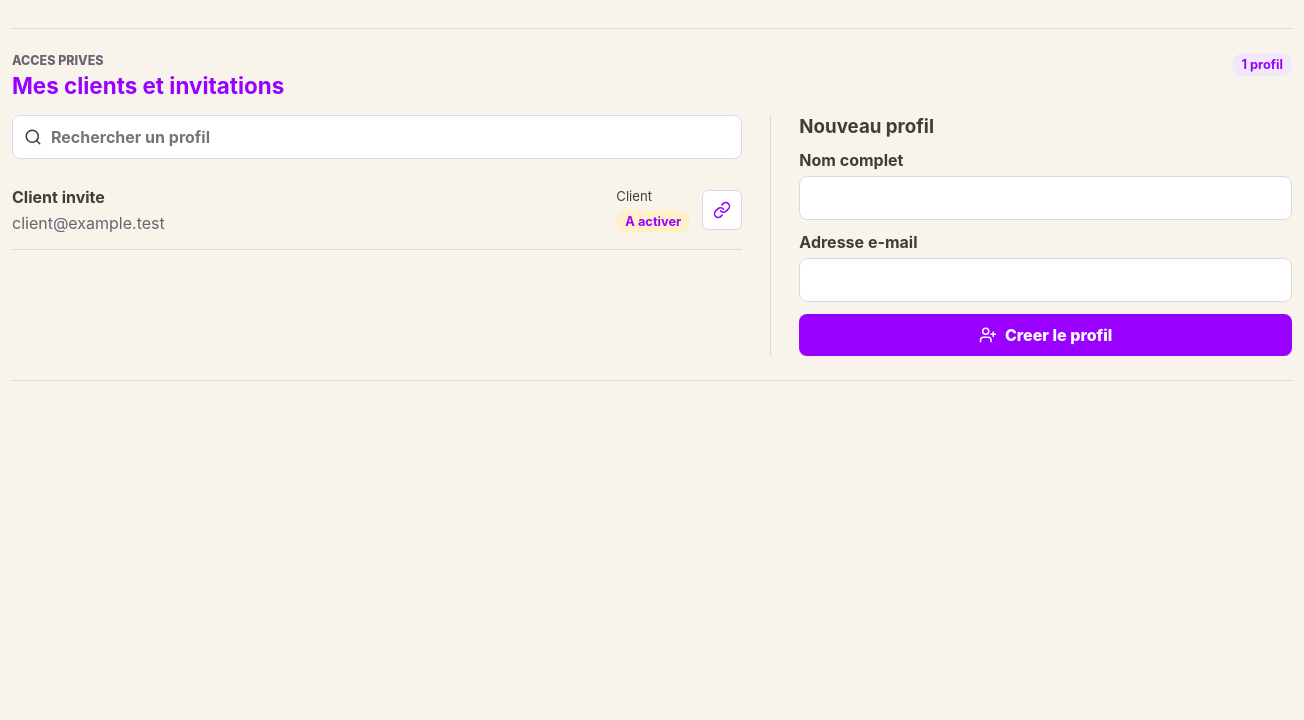
Scenario: profile interface › renews a pending profile's invitation
This screenshot has width=1304, height=720.
Click the button named "Regenerer le lien de Client invite".
click(722, 210)  # box top-left (702, 190), bottom-right (742, 230)
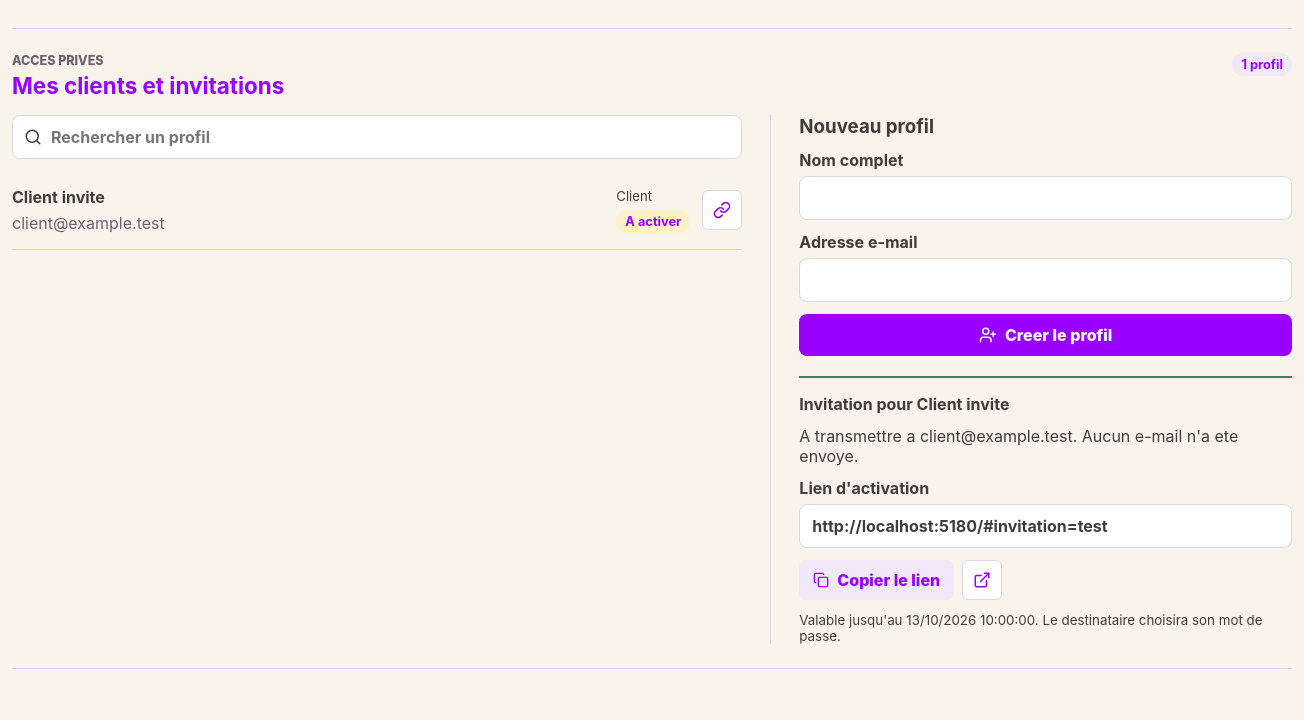
Expected: the field showing "http://localhost:5180/#invitation=test" is shown, top-left (799, 504), bottom-right (1292, 548)
